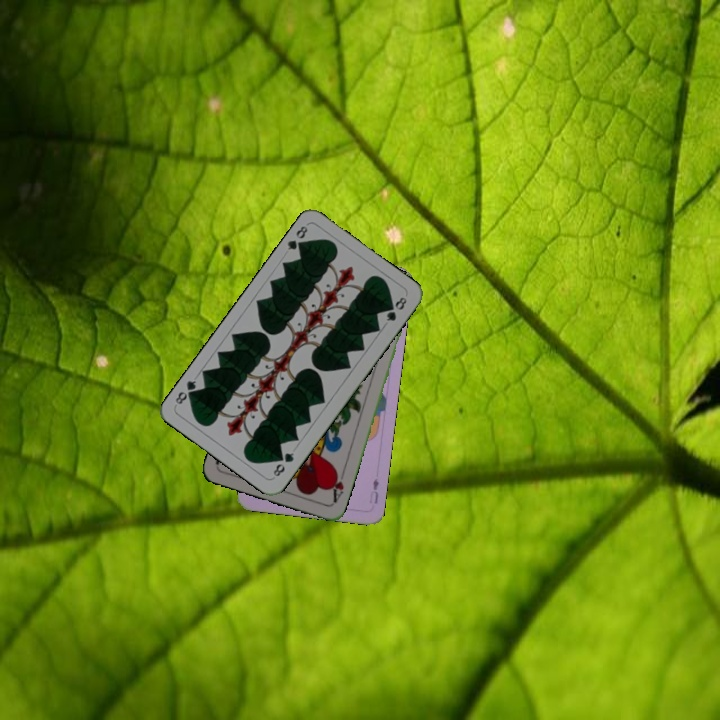EU: (365, 474, 381, 506)
G8: (269, 448, 297, 479), (283, 222, 310, 254)
HA: (326, 466, 348, 505)
